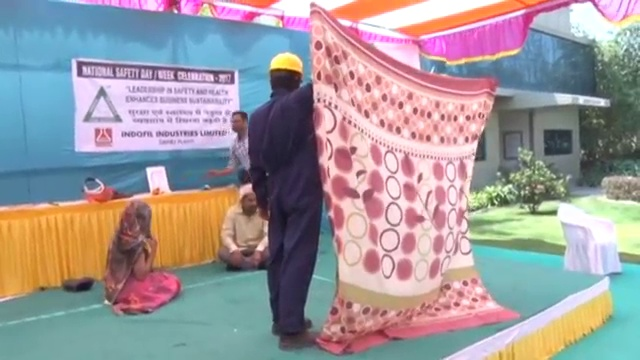helmet: (267, 50, 303, 74)
helmet_off: (124, 201, 153, 231), (239, 184, 258, 216), (230, 109, 248, 135)
helmet_on: (265, 48, 304, 90)
person: (251, 47, 326, 347), (101, 198, 180, 318), (214, 183, 275, 272), (211, 107, 257, 179)
